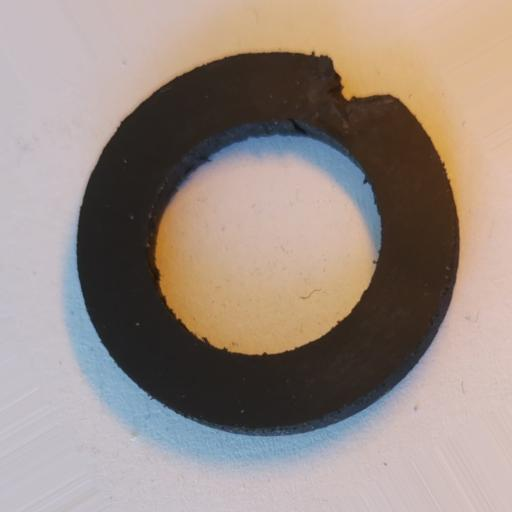defect: (329, 55, 398, 107)
